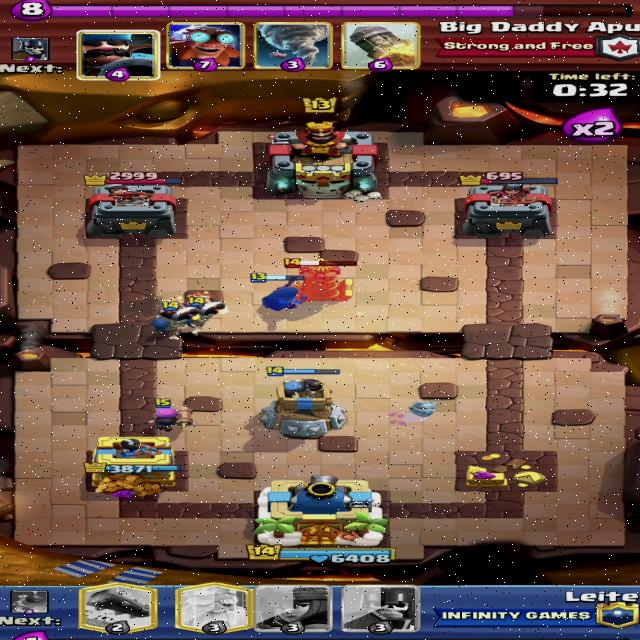Enemy-Tesla: (282, 258, 360, 301)
Player-Bandit: (248, 272, 308, 310)
Player-BombTower: (259, 366, 350, 439)
Player-Firecracker: (146, 398, 193, 433)
Player-Wallbreaker: (154, 301, 197, 339), (182, 291, 225, 318)
